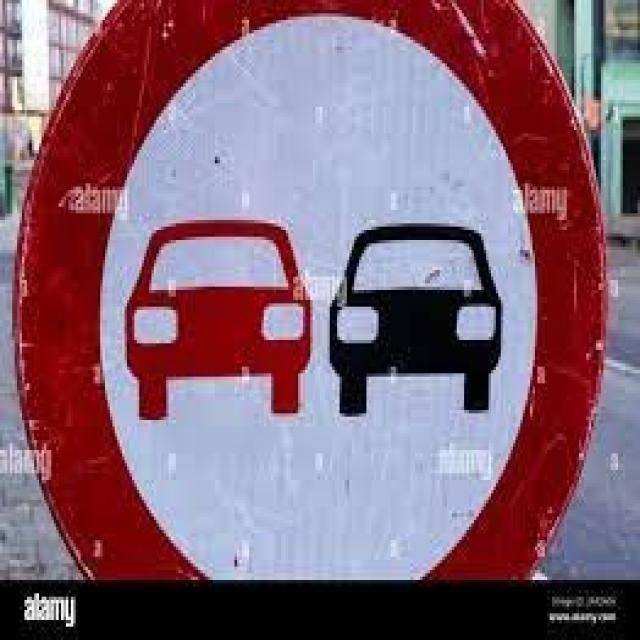no_passing: (1, 0, 639, 581)
